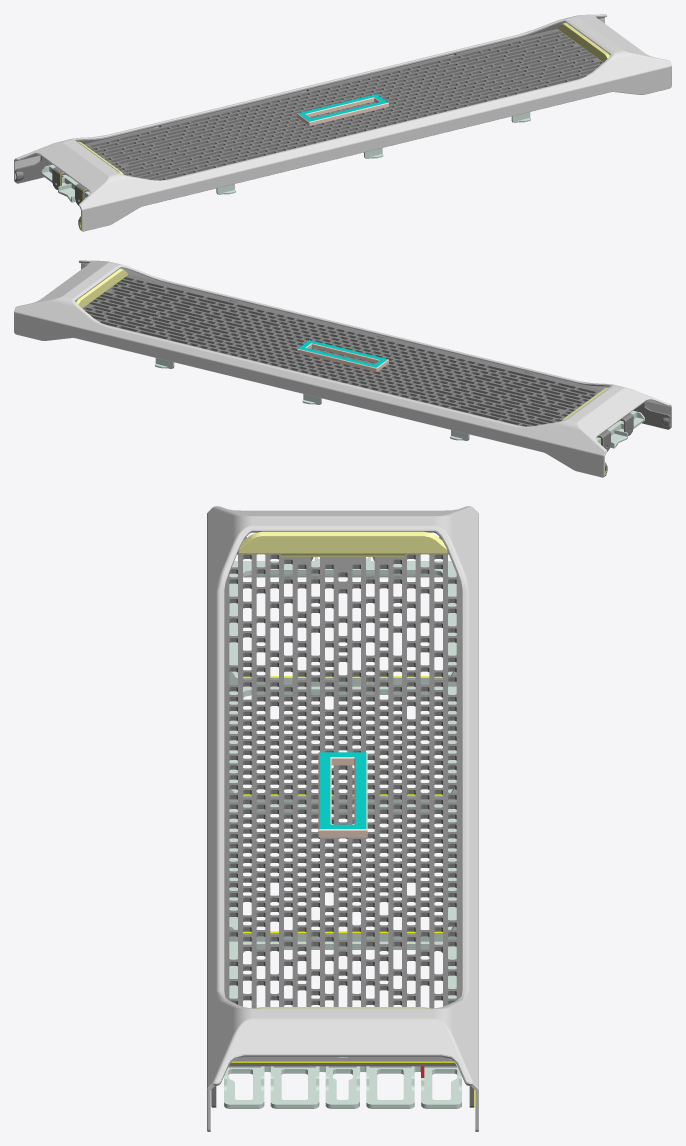
File: fr_bezel.glb
3 renders of one model, top to bottom at view 1: azimuth 30°, elevation 25°; view 2: azimuth 150°, elevation 25°; view 3: azimuth 270°, elevation 25°, orthographic. The views are drawn at different scales.
Parts seen in each view (by area): view 1: 2u_front_bezel2; view 2: 2u_front_bezel2; view 3: 2u_front_bezel2.
Boxes of the visible parts, box(x1,y1,x2,y2) form: 2u_front_bezel2: box(14, 14, 671, 231); 2u_front_bezel2: box(14, 260, 671, 477); 2u_front_bezel2: box(207, 506, 478, 1131).
Size of the model in its own units: 430 by 27.13 by 85.7.
